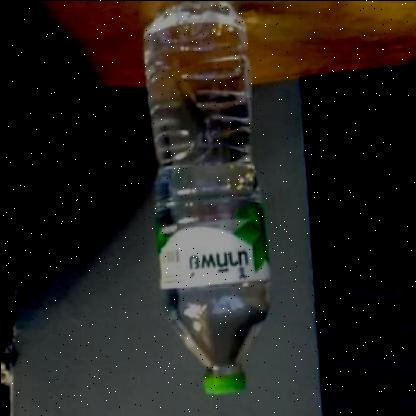Plastic Bottle: (138, 0, 274, 400)
